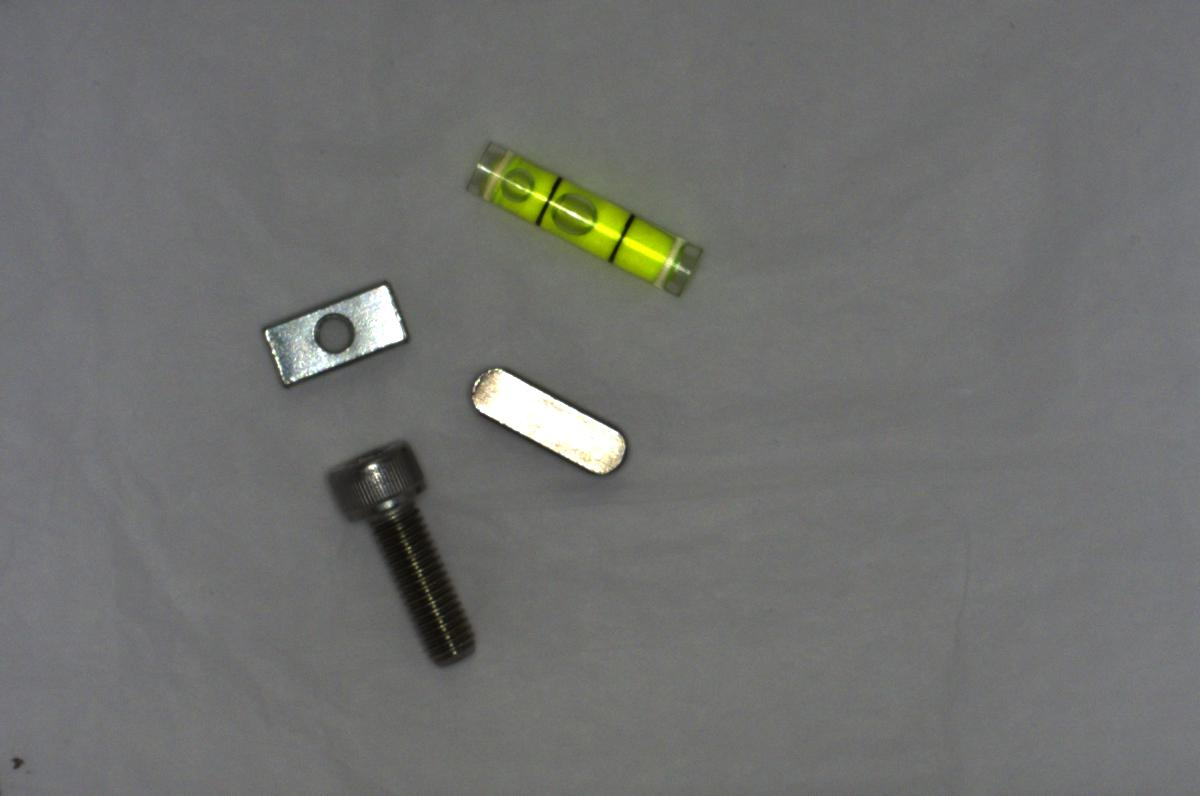Hexagon screw: (317, 435, 479, 675)
Horizontal bubble: (460, 138, 705, 298)
Keybar: (465, 360, 631, 481)
Rectangular nut: (257, 281, 419, 394)
